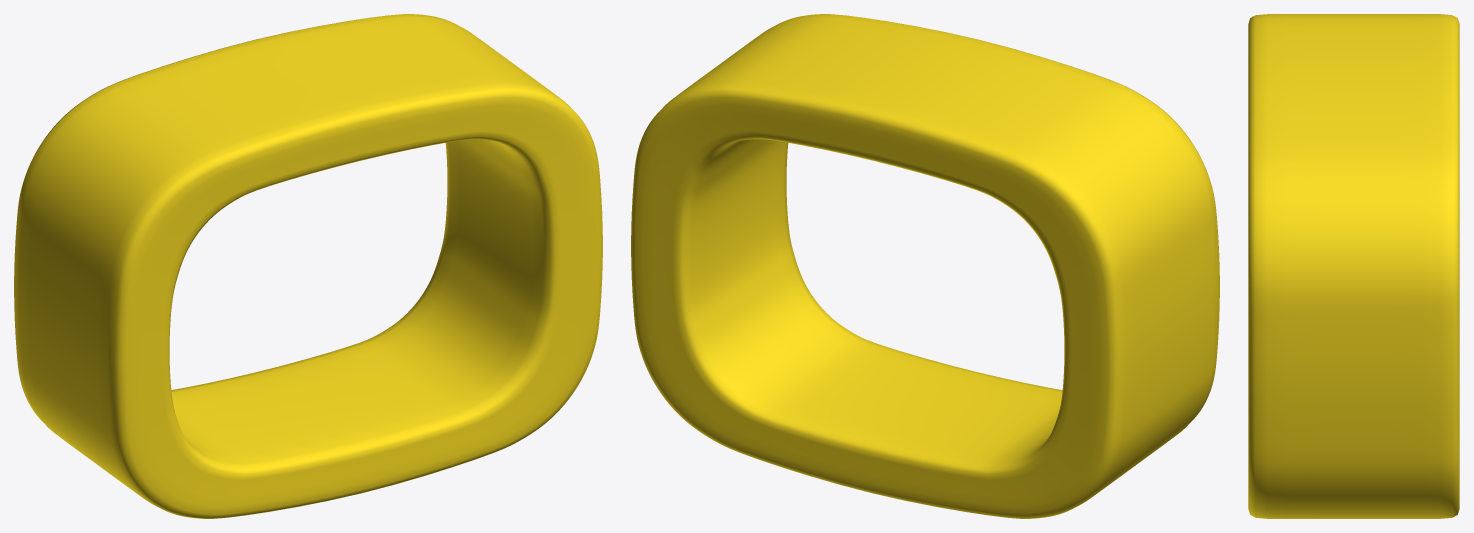
The model's file is whiteboxoffice.glb.
3 views of the same model, side by side, from view 1: azimuth 30°, elevation 25°; view 2: azimuth 150°, elevation 25°; view 3: azimuth 270°, elevation 25° (orthographic).
Visible parts, largest first — view 1: Logo; view 2: Logo; view 3: Logo.
Boxes of the visible parts, <box> form: Logo: <box>14,14,602,518</box>; Logo: <box>631,14,1219,518</box>; Logo: <box>1248,14,1459,518</box>.
Bounding box in the file's own units: 1.8 × 1.34 × 0.6865.
